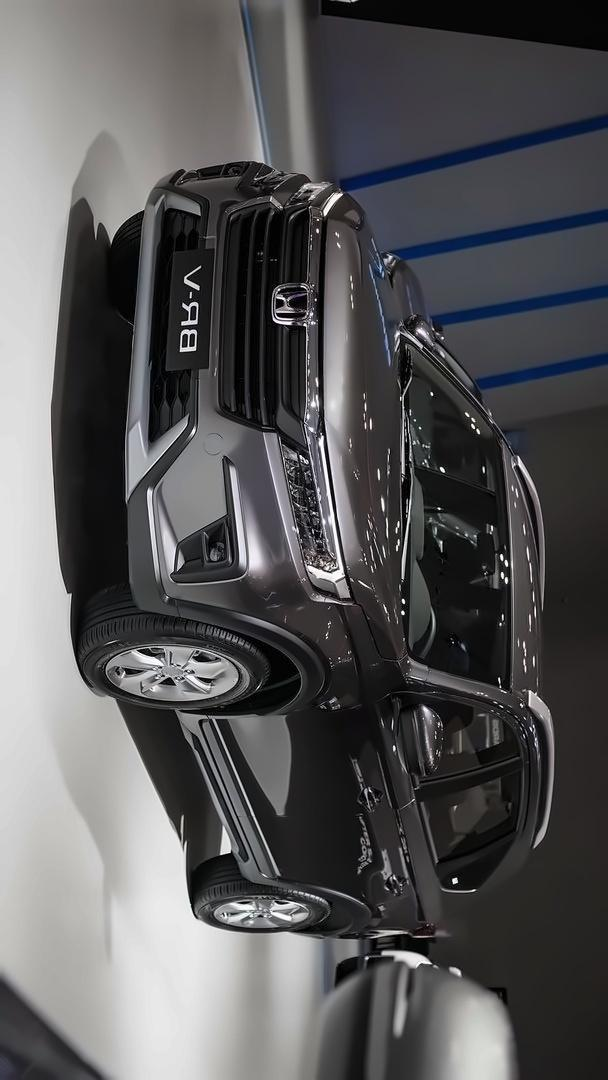Car hood: (315, 179, 406, 618)
Fender - -F-L-: (170, 593, 419, 719)
Fender - -R-L-: (356, 890, 428, 958)
Front bumper: (115, 150, 271, 640)
Headlight - -L-: (267, 412, 360, 607)
Headlight - -R-: (275, 169, 348, 221)
Passenger-s door - -F-L-: (209, 670, 531, 816)
Passenger-s door - -R-L-: (242, 774, 545, 901)
Rear bumper: (280, 887, 365, 966)
Rear light - -L-: (402, 907, 445, 964)
Side bumper - -L-: (165, 689, 283, 892)
Side mirror - -L-: (384, 692, 451, 778)
